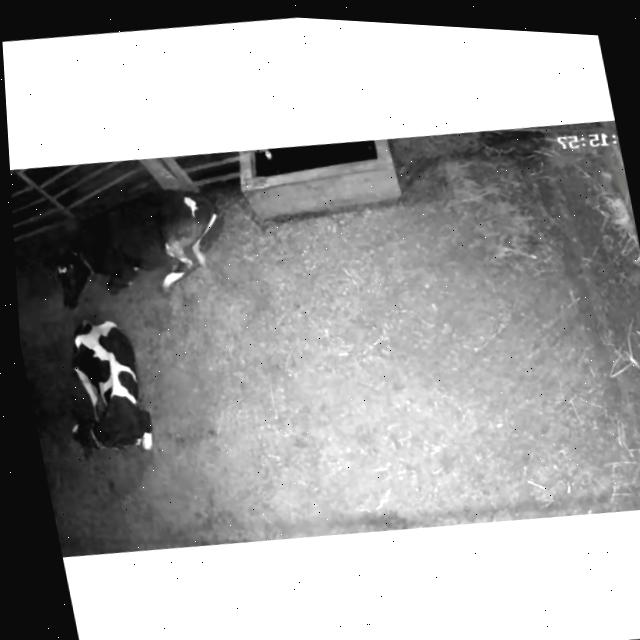lay: (24, 166, 250, 336), (36, 301, 178, 482)
